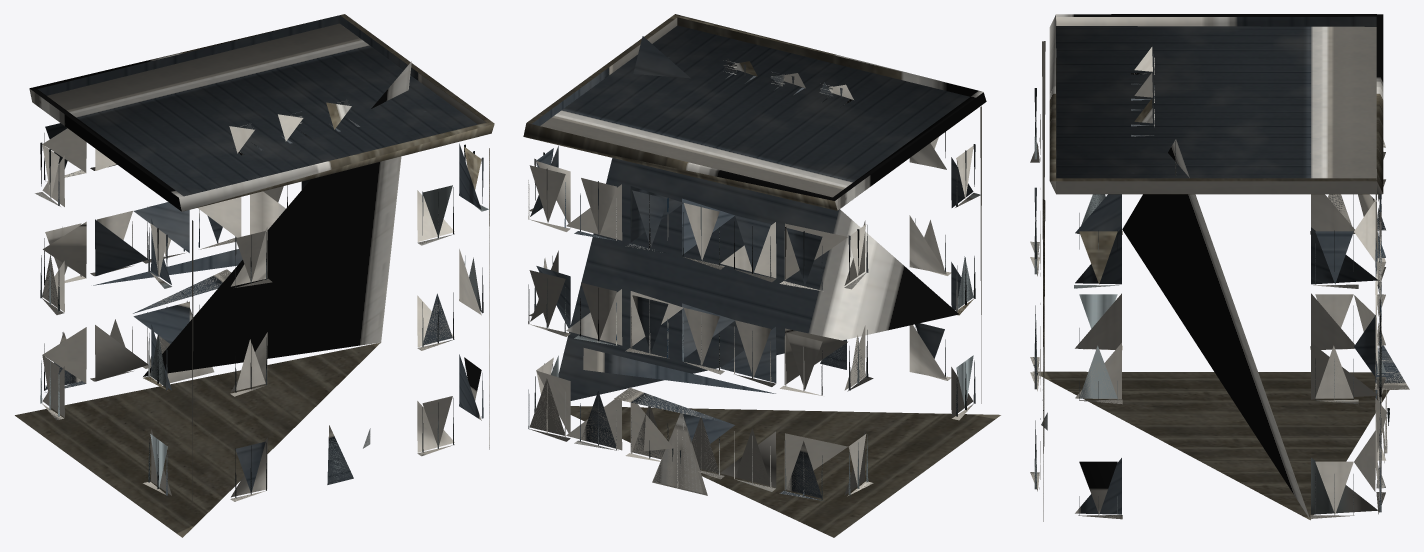
Rendered from public_005.lod2.obj.
3 renders of one model, left to right at view 1: azimuth 30°, elevation 25°; view 2: azimuth 150°, elevation 25°; view 3: azimuth 270°, elevation 25°, orthographic. The views are drawn at different scales.
Visible parts, largest first — view 1: public_005; view 2: public_005; view 3: public_005.
Part boxes in pixels (bbox=[...]): public_005: bbox=[15, 14, 494, 537]; public_005: bbox=[523, 14, 1000, 537]; public_005: bbox=[1030, 14, 1409, 521].
Bounding box in the file's own units: 10.1 × 10.6 × 9.32.
1 material, 1 textured.
